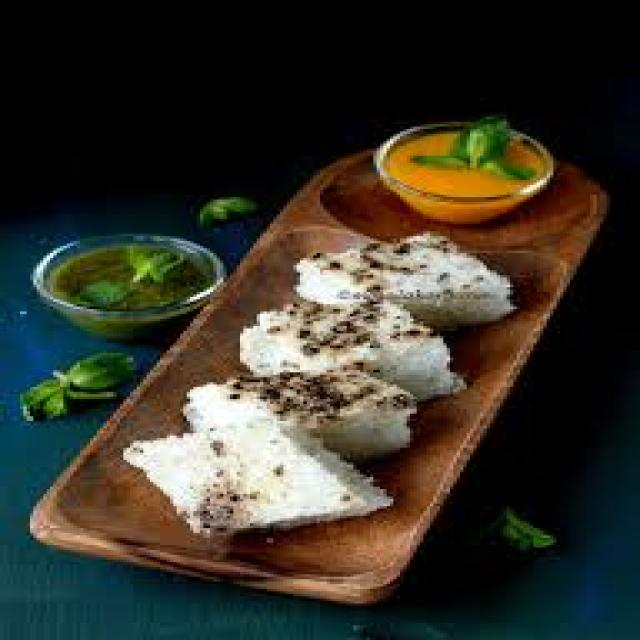DHOKLA: (127, 224, 511, 544)
